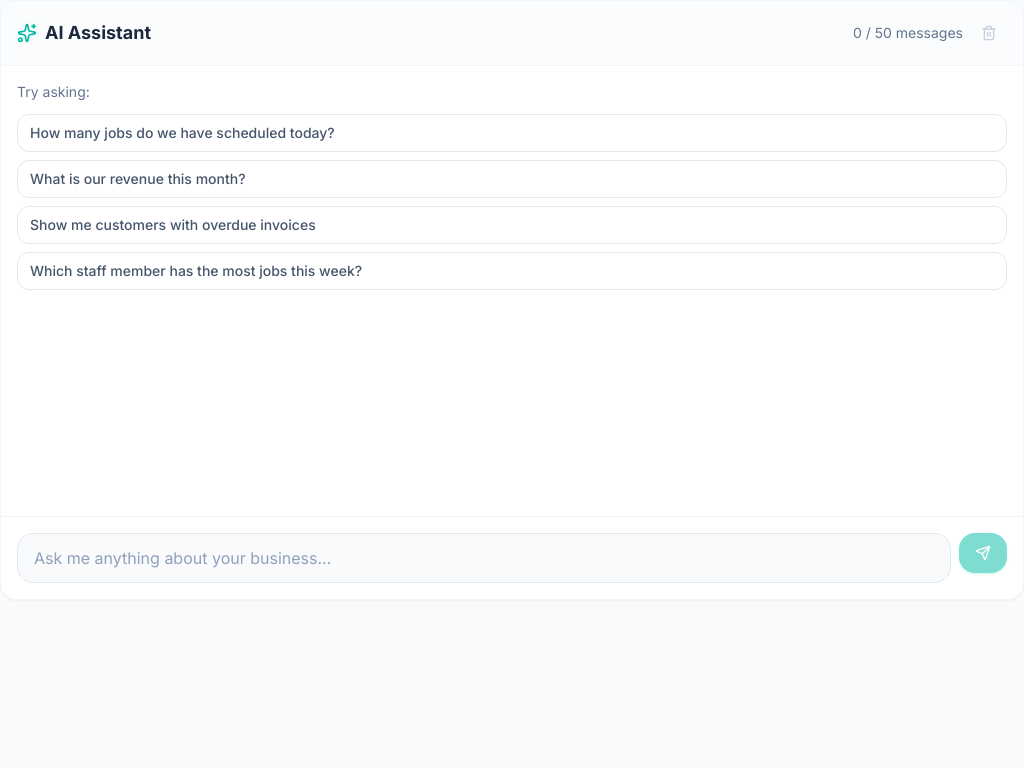
Test: AIQueryChat › sends message and displays response
Type "How many jobs today?" into the field with test id "ai-chat-input" at (484, 558), box left=17, top=533, right=951, bottom=583
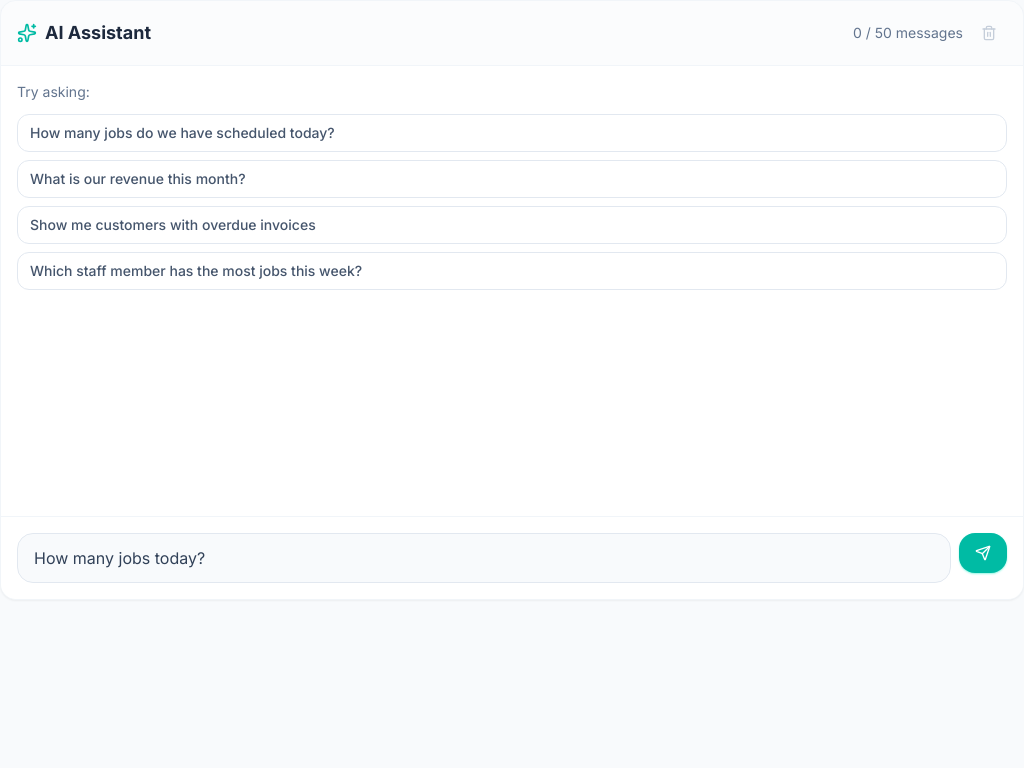
Click the button with test id "ai-send-btn" at (983, 553), box left=959, top=533, right=1007, bottom=573
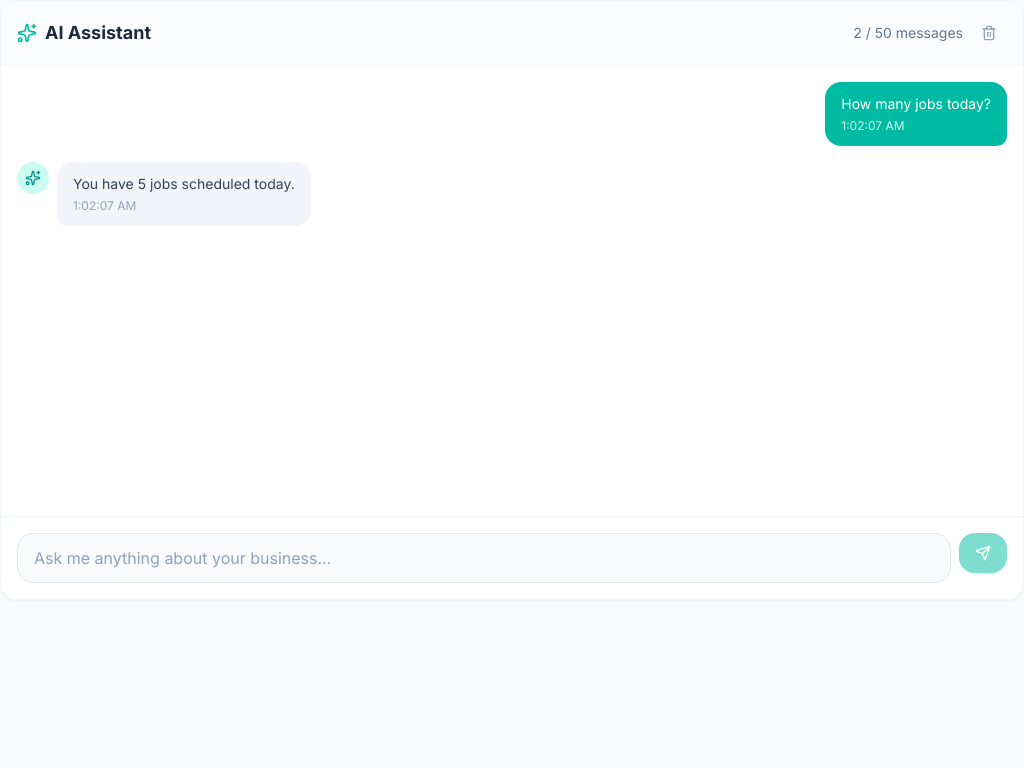
Expected: the element with test id "message-history" is shown, left=17, top=82, right=1007, bottom=226
Expected: the text "How many jobs today?" is shown, left=841, top=94, right=991, bottom=114
Expected: the text "You have 5 jobs scheduled today." is shown, left=73, top=174, right=295, bottom=194
